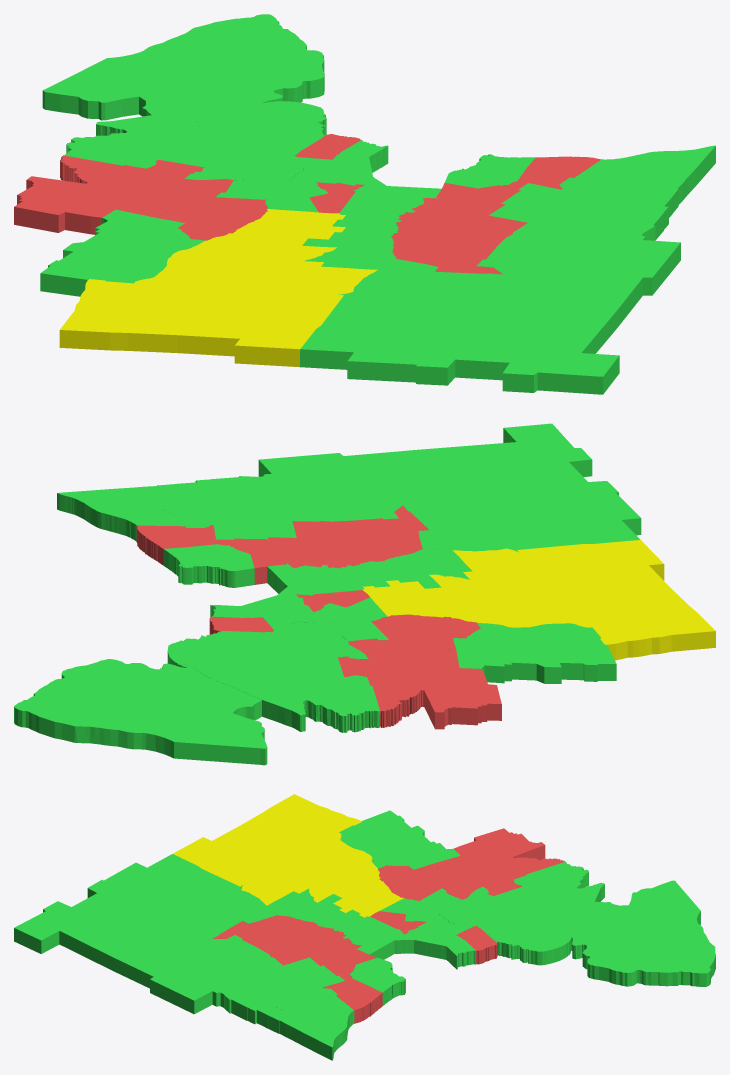
File: bigger.glb
3 views of the same model, one above another, from view 1: azimuth 30°, elevation 25°; view 2: azimuth 150°, elevation 25°; view 3: azimuth 270°, elevation 25° (orthographic). The views are drawn at different scales.
Parts seen in each view (by area): view 1: Cañuelas, SAN FERNANDO PARTIDO, general las heras, SAN VICENTE, PILAR, MARCOS PAZ, General Rodriguez, TIGRE, LA MATANZA, ESCOBAR, BERAZATEGUI, EZEIZA (+20 smaller); view 2: Cañuelas, SAN FERNANDO PARTIDO, general las heras, SAN VICENTE, PILAR, General Rodriguez, MARCOS PAZ, ESCOBAR, TIGRE, LA MATANZA, BERAZATEGUI, EZEIZA (+20 smaller); view 3: Cañuelas, SAN FERNANDO PARTIDO, SAN VICENTE, general las heras, TIGRE, MARCOS PAZ, PILAR, General Rodriguez, BERAZATEGUI, LA MATANZA, ESCOBAR, EZEIZA (+18 smaller).
Part boxes in pixels (box(x1,y1,x2,y2)): Cañuelas: box(300, 258, 619, 394); SAN FERNANDO PARTIDO: box(42, 14, 324, 120); general las heras: box(59, 279, 343, 367); SAN VICENTE: box(474, 221, 680, 335); PILAR: box(14, 155, 204, 234); MARCOS PAZ: box(134, 239, 377, 294); General Rodriguez: box(40, 209, 205, 296); TIGRE: box(184, 101, 326, 167); LA MATANZA: box(302, 185, 441, 269); ESCOBAR: box(64, 111, 216, 168); BERAZATEGUI: box(574, 145, 715, 229); EZEIZA: box(391, 205, 502, 274); Cañuelas: box(410, 423, 641, 552); SAN FERNANDO PARTIDO: box(14, 659, 267, 765); general las heras: box(517, 540, 715, 660); SAN VICENTE: box(254, 448, 466, 520); PILAR: box(337, 649, 501, 729); General Rodriguez: box(453, 623, 616, 683); MARCOS PAZ: box(429, 548, 593, 627); ESCOBAR: box(235, 657, 380, 732); TIGRE: box(167, 623, 319, 687); LA MATANZA: box(267, 549, 472, 595); BERAZATEGUI: box(57, 479, 219, 541); EZEIZA: box(309, 505, 428, 568); Cañuelas: box(14, 854, 277, 965); SAN FERNANDO PARTIDO: box(567, 880, 715, 986); SAN VICENTE: box(102, 925, 259, 1014); general las heras: box(173, 794, 361, 886); TIGRE: box(455, 897, 585, 965); MARCOS PAZ: box(241, 832, 378, 905); PILAR: box(432, 828, 564, 896); General Rodriguez: box(339, 810, 460, 869); BERAZATEGUI: box(247, 995, 354, 1060); LA MATANZA: box(267, 888, 403, 959); ESCOBAR: box(493, 861, 604, 914); EZEIZA: box(212, 915, 351, 947).
Bounding box in the file's own units: 10.2 × 0.4708 × 11.95.
